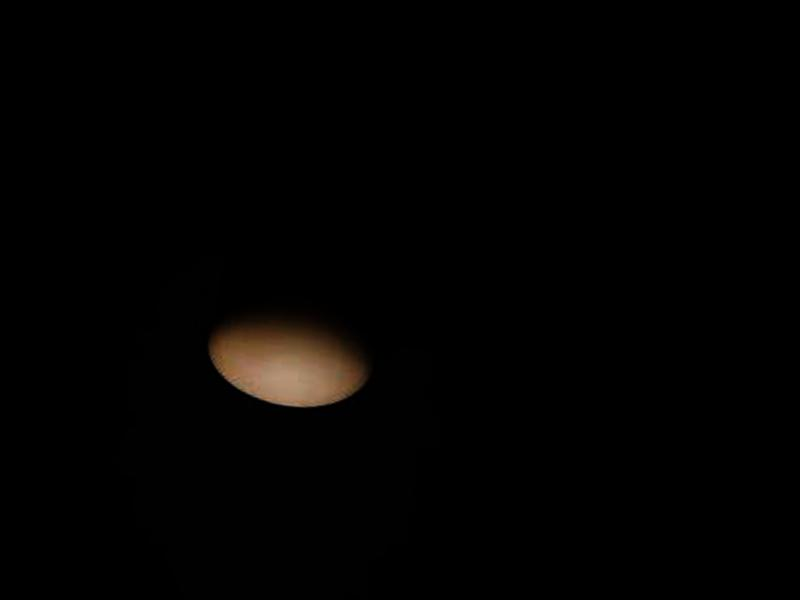Eggs: (196, 287, 383, 416)
